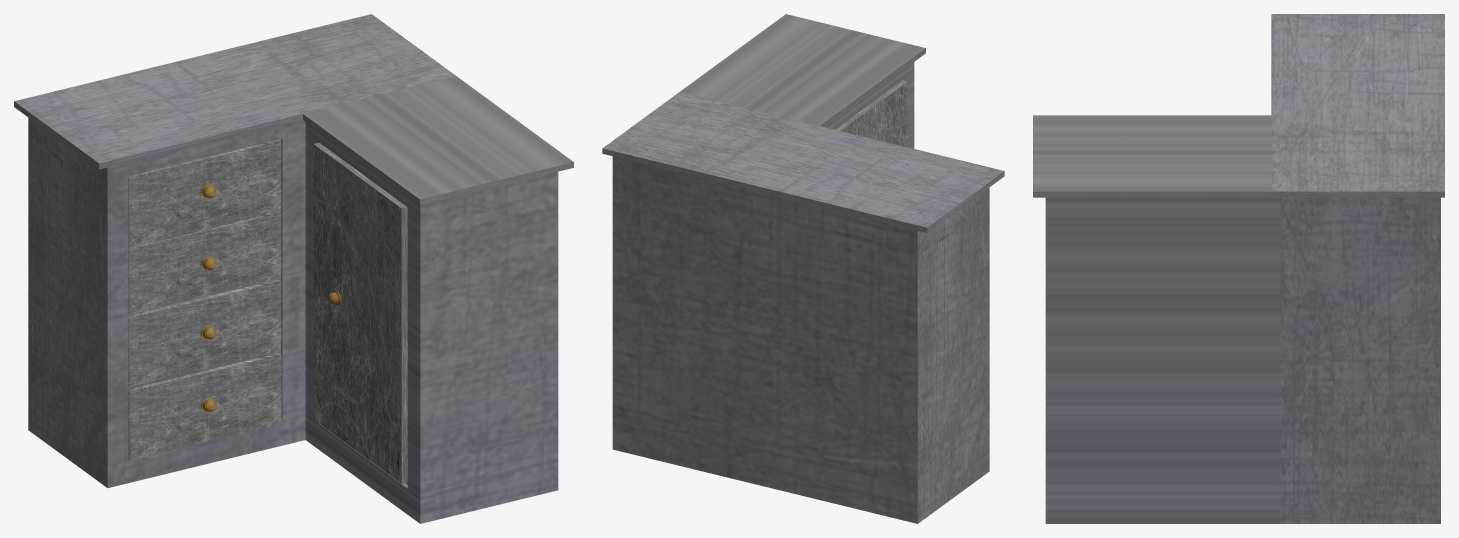
File: ComodaL.fbx
3 renders of one model, left to right at view 1: azimuth 30°, elevation 25°; view 2: azimuth 150°, elevation 25°; view 3: azimuth 270°, elevation 25°, orthographic. The views are drawn at different scales.
Parts seen in each view (by area): view 1: pCube1, pCube2, pCube7, pCube3, pCube6, pCube5, pCube4; view 2: pCube1, pCube2, pCube7; view 3: pCube1, pCube2.
Boxes of the visible parts, bbox=[...] form: pCube1: bbox=[28, 118, 558, 523]; pCube2: bbox=[14, 14, 573, 205]; pCube7: bbox=[313, 142, 407, 483]; pCube3: bbox=[128, 139, 281, 248]; pCube6: bbox=[128, 353, 281, 460]; pCube5: bbox=[128, 279, 281, 386]; pCube4: bbox=[128, 211, 281, 314]; pCube1: bbox=[612, 62, 989, 523]; pCube2: bbox=[602, 14, 1004, 232]; pCube7: bbox=[835, 80, 907, 147]; pCube1: bbox=[1045, 197, 1440, 523]; pCube2: bbox=[1033, 14, 1444, 197].
Size of the model in its own units: 3.49 by 3.09 by 3.42.
Materials: 3 (3 with a texture image).
